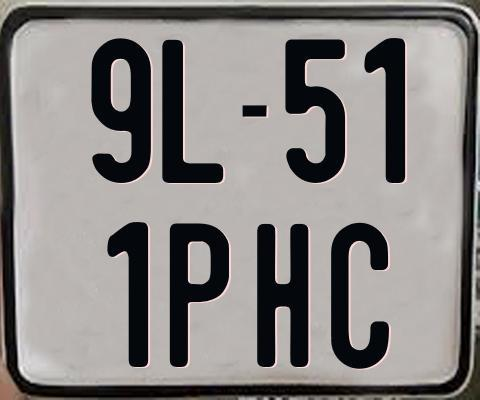1: (363, 37, 409, 185), (104, 220, 149, 367)
5: (283, 37, 349, 183)
9: (88, 35, 151, 182)
C: (331, 221, 389, 371)
H: (254, 221, 306, 367)
L: (161, 40, 227, 188)
P: (170, 222, 232, 372)
